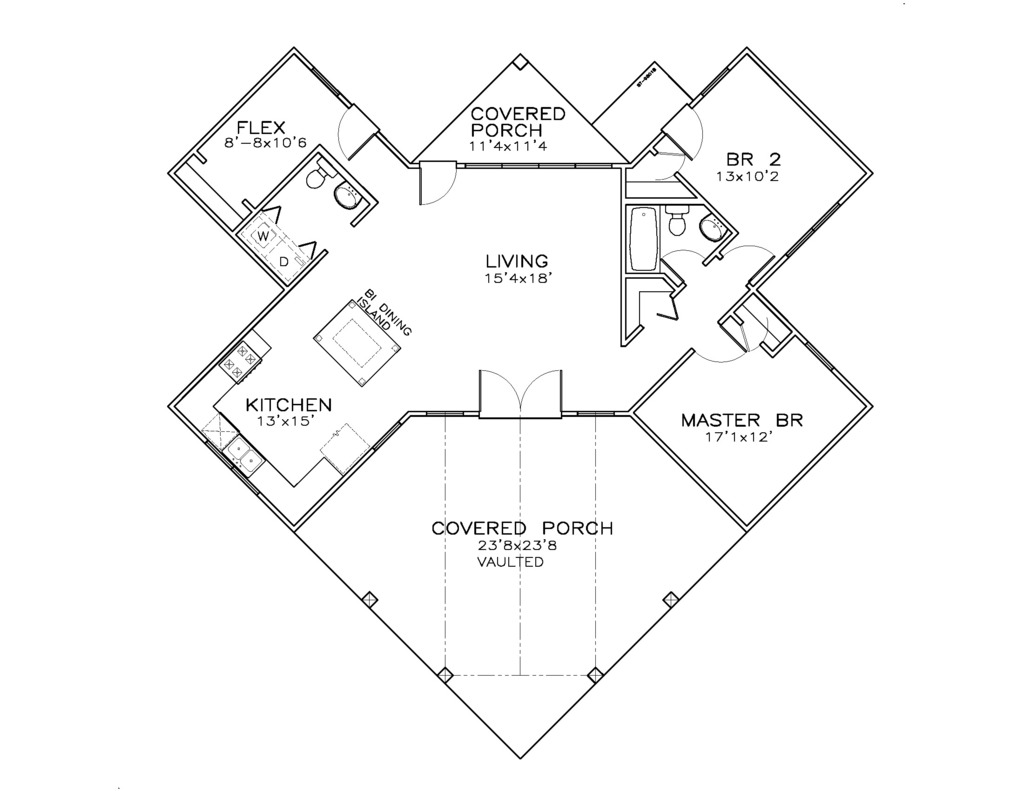door: (481, 374, 562, 416), (334, 104, 383, 161), (692, 312, 746, 362), (660, 100, 703, 161), (724, 244, 772, 285), (664, 242, 705, 286), (418, 161, 457, 203)
kitchen_bar: (168, 323, 271, 426)
large_sink: (293, 153, 341, 196), (668, 202, 691, 239)
small_sink: (327, 180, 366, 214), (694, 213, 739, 238)
tub: (630, 203, 660, 276)
twin_sink: (217, 433, 269, 477)
